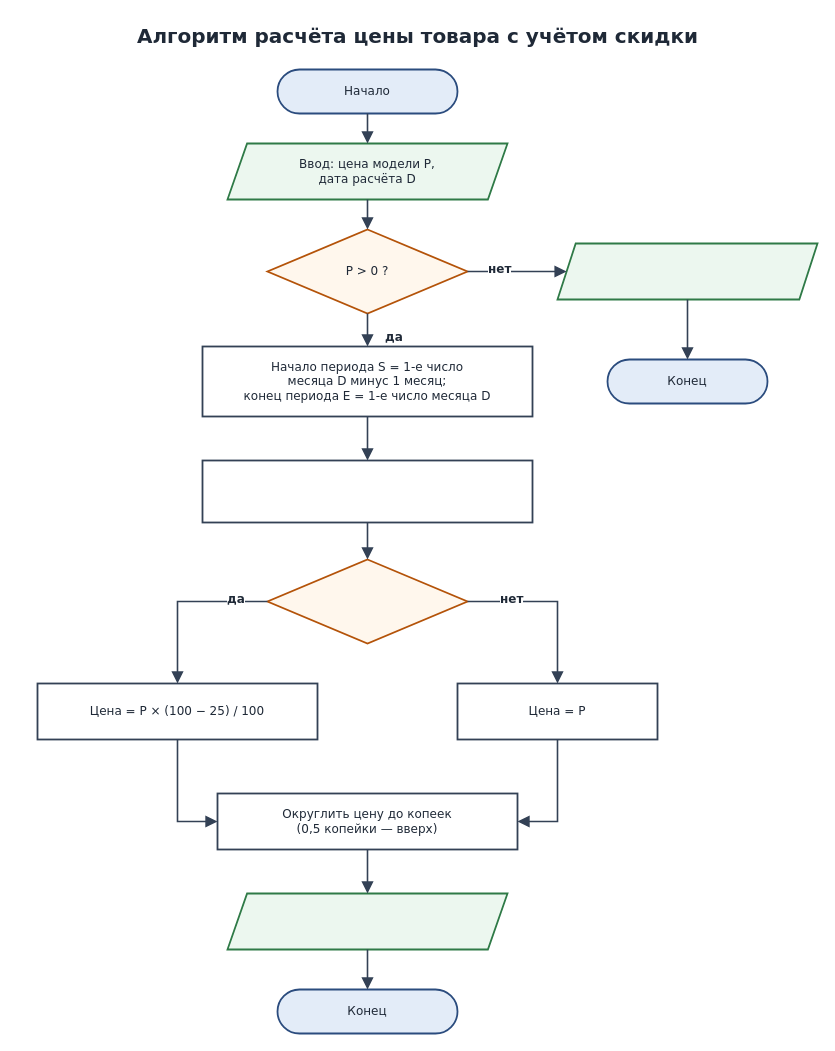
This 835x1051 diagram has some shape labels left out. Each missing label, with the centre of its shape:
"N = 0 ?" belongs at [367,601].
"N = число заказов модели (любого размера) с датой S ≤ дата < E" belongs at [367,491].
"Вывод: «Цена товара должна быть больше нуля»" belongs at [687,271].
"Вывод: цена со скидкой" belongs at [367,921].
